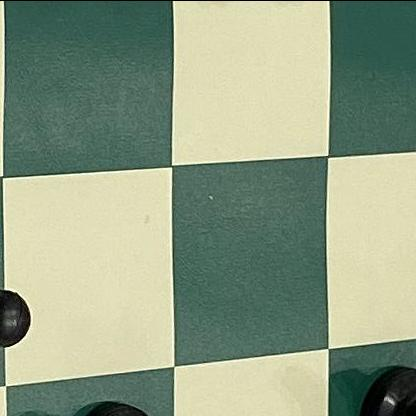black-pawn: (0, 248, 39, 364)
